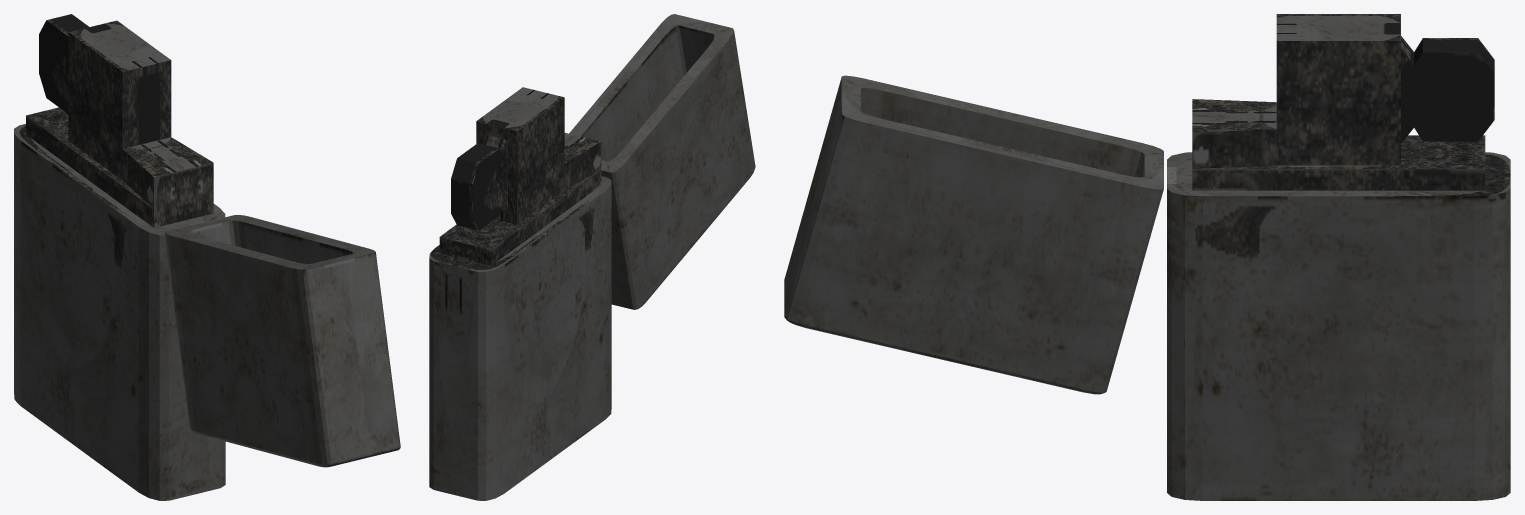
Rendered from Lighter.fbx.
3 renders of one model, left to right at view 1: azimuth 30°, elevation 25°; view 2: azimuth 150°, elevation 25°; view 3: azimuth 270°, elevation 25°, orthographic. The views are drawn at different scales.
Visible parts, largest first — view 1: LIGHTER; view 2: LIGHTER; view 3: LIGHTER.
Part boxes in pixels (bbox=[...]): LIGHTER: bbox=[14, 14, 400, 500]; LIGHTER: bbox=[429, 14, 755, 500]; LIGHTER: bbox=[784, 14, 1510, 500].
Size of the model in its own units: 33.93 by 153 by 223.
